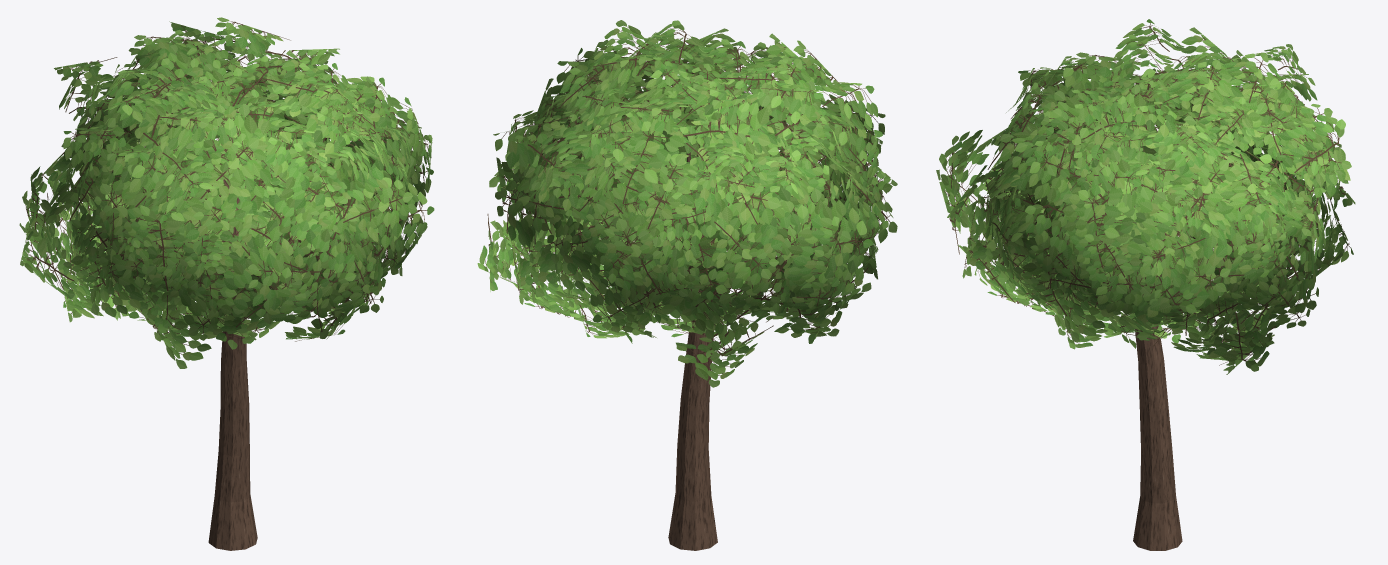
File: tree-street.gltf
3 renders of one model, left to right at view 1: azimuth 30°, elevation 25°; view 2: azimuth 150°, elevation 25°; view 3: azimuth 270°, elevation 25°, orthographic. The views are drawn at different scales.
Visible parts, largest first — view 1: tree_street; view 2: tree_street; view 3: tree_street.
Part boxes in pixels (x1,y1,x2,y2): tree_street: (19, 17, 434, 550); tree_street: (477, 20, 897, 550); tree_street: (936, 19, 1355, 550).
Size of the model in its own units: 5.68 by 7.03 by 5.68.
Materials: 3 (3 with a texture image).
